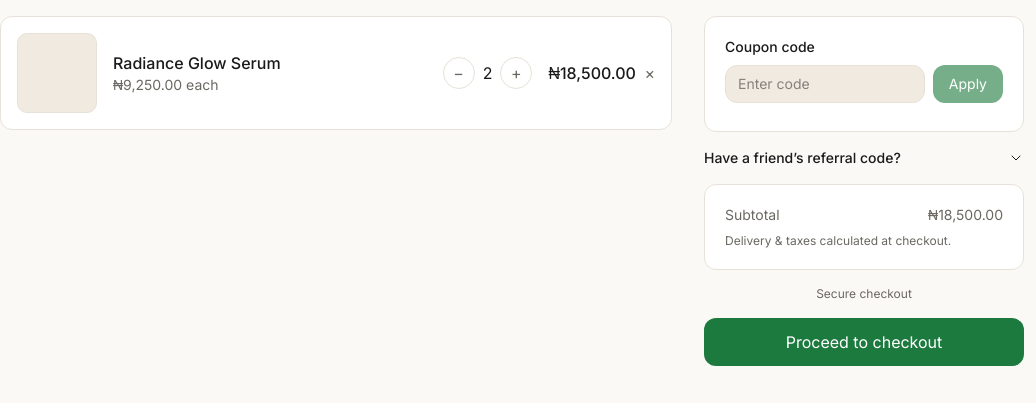
CartView › shows the specific message for an invalid coupon (Apply-click only)
The width and height of the screenshot is (1036, 403).
Type "BADCODE" into the field labelled "Coupon code" at (825, 84), box [725,65,925,103]
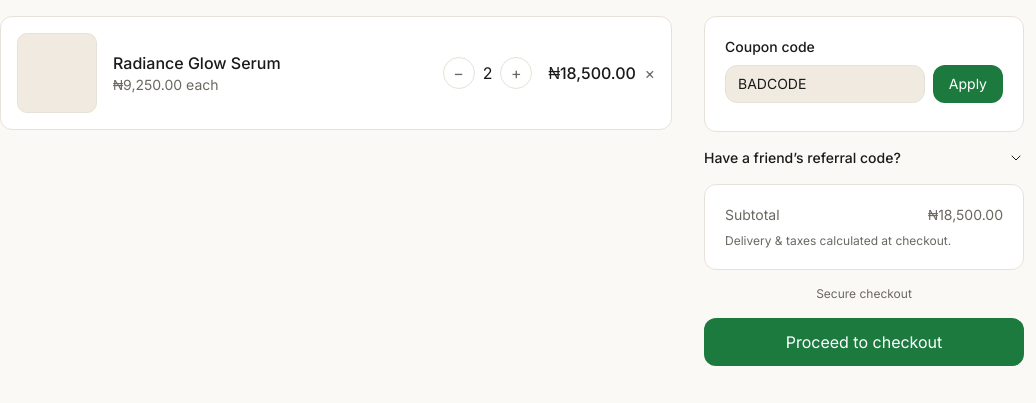
Click the button "Apply" at (968, 84), box [933,65,1003,103]
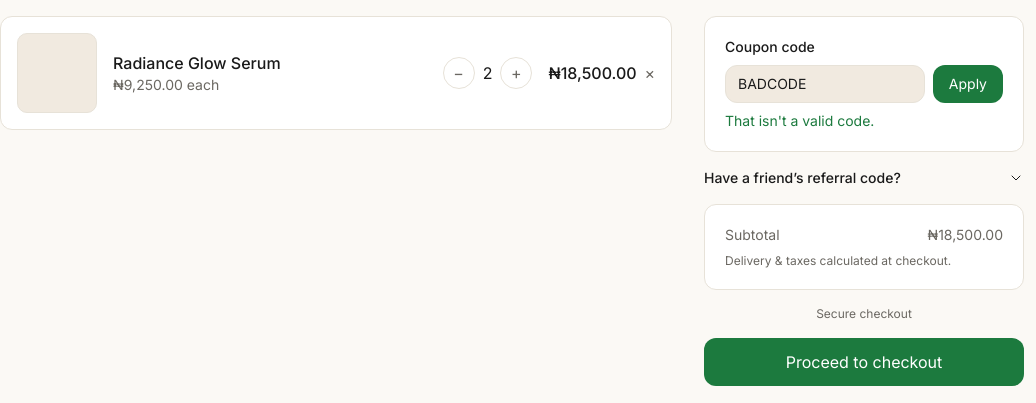
Check: the text "That isn't a valid code." is shown, box [725,112,874,129]
